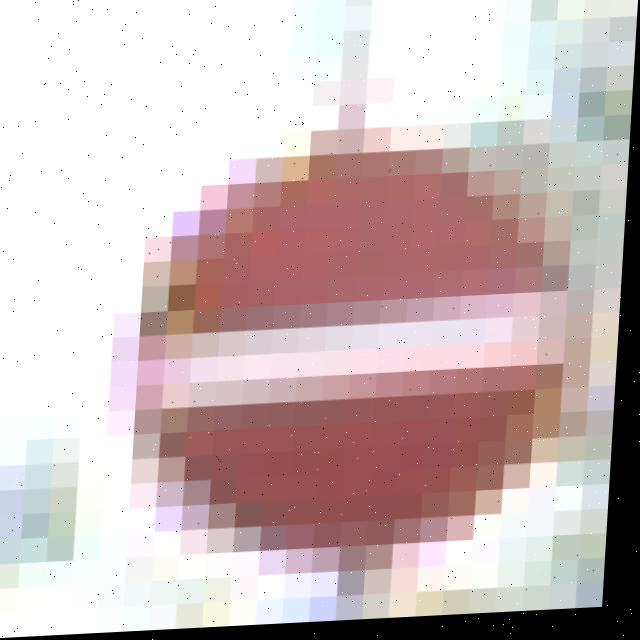road_rough: (120, 87, 619, 593)
